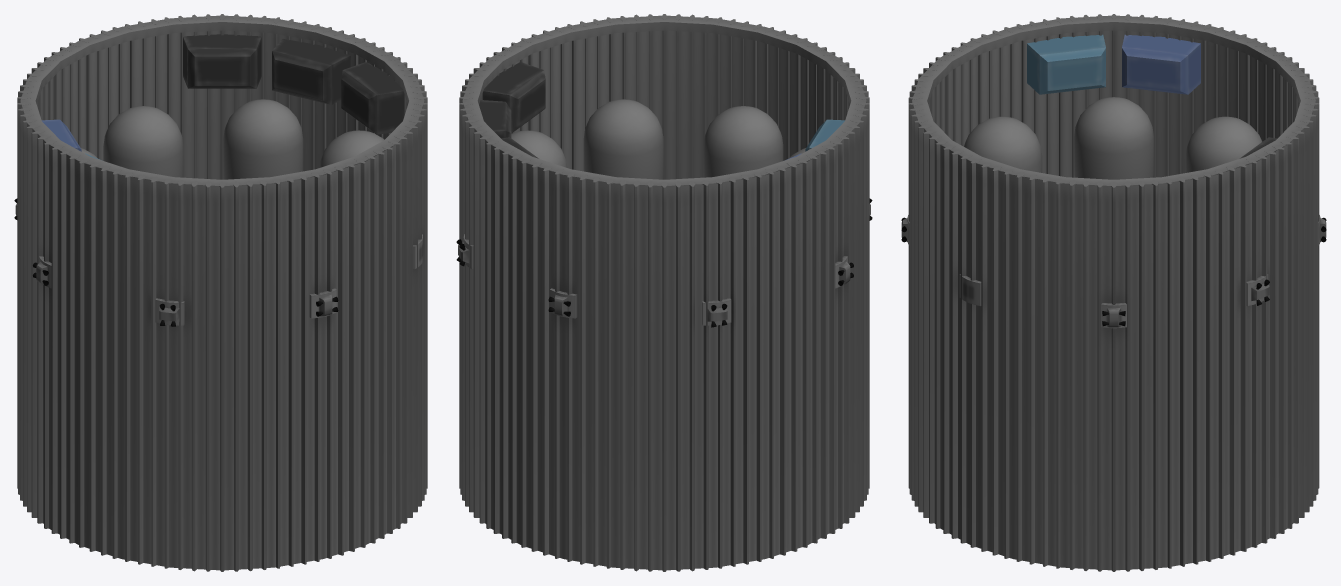
File: ksprocket.fbx
3 views of the same model, side by side, from view 1: azimuth 30°, elevation 25°; view 2: azimuth 150°, elevation 25°; view 3: azimuth 270°, elevation 25° (orthographic).
Parts seen in each view (by area): view 1: tanks.002; view 2: tanks.002; view 3: tanks.002.
Boxes of the visible parts, bbox=[...] form: tanks.002: bbox=[14, 14, 427, 571]; tanks.002: bbox=[456, 14, 872, 571]; tanks.002: bbox=[901, 14, 1326, 571].
Size of the model in its own units: 1063 by 1060 by 1063.
